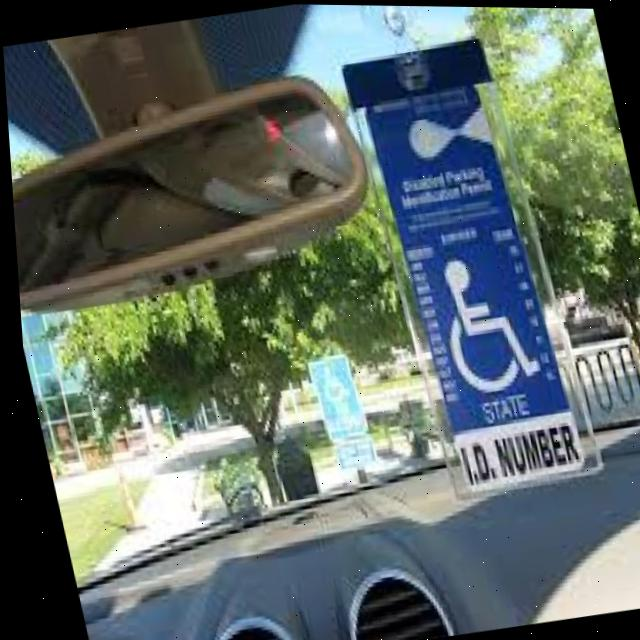symbol_of_access: (425, 243, 539, 400)
